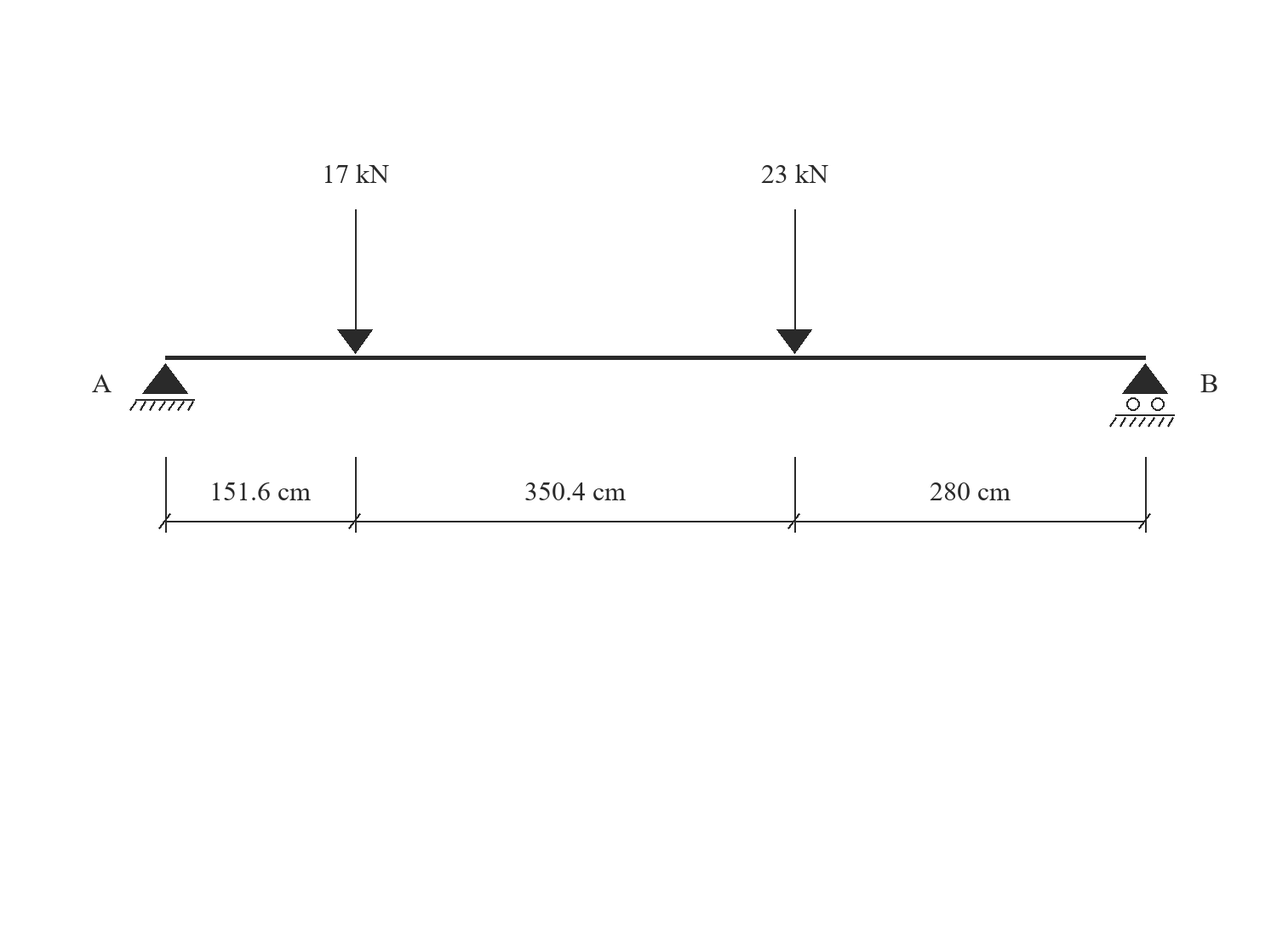pin_support: (129, 363, 195, 411)
point_load: (337, 209, 373, 354), (776, 209, 812, 354)
roller_support: (1109, 363, 1175, 427)
